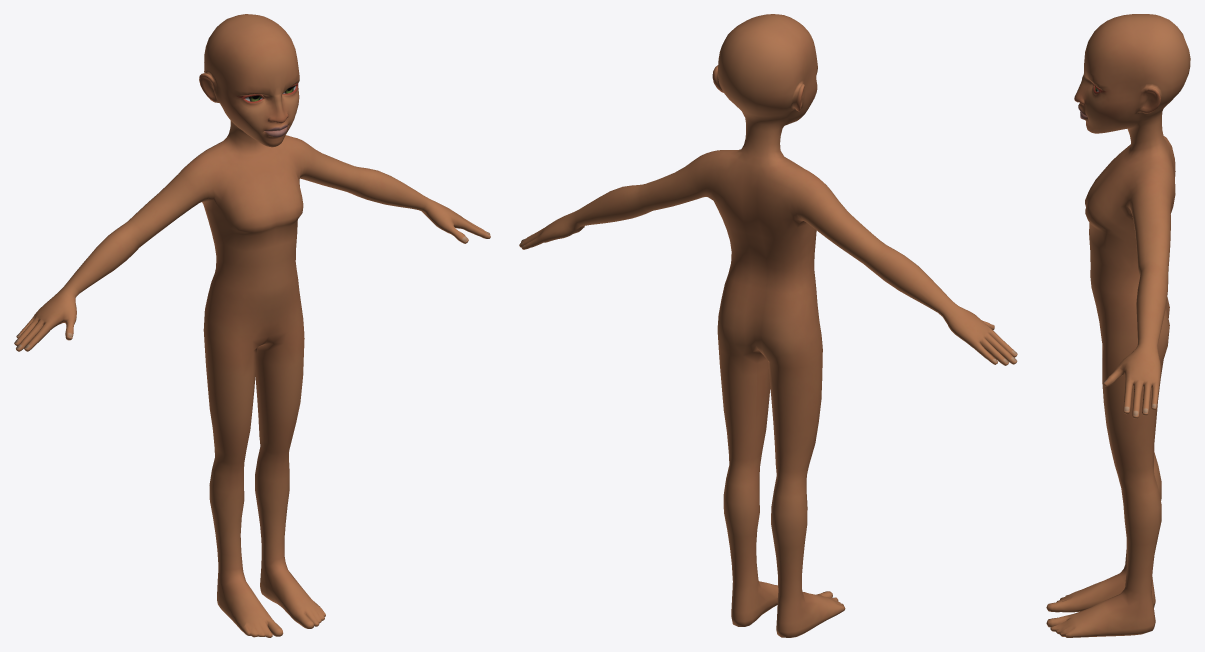
File: frame_0097.glb
3 renders of one model, left to right at view 1: azimuth 30°, elevation 25°; view 2: azimuth 150°, elevation 25°; view 3: azimuth 270°, elevation 25°, orthographic. The views are drawn at different scales.
Visible parts, largest first — view 1: frame_0097_head_geo; view 2: frame_0097_head_geo; view 3: frame_0097_head_geo.
Boxes of the visible parts, <box> form: frame_0097_head_geo: <box>14,14,490,637</box>; frame_0097_head_geo: <box>519,14,1017,637</box>; frame_0097_head_geo: <box>1046,14,1190,637</box>.
Size of the model in its own units: 1.28 by 1.5 by 0.3253.
Materials: 3 (3 with a texture image).
